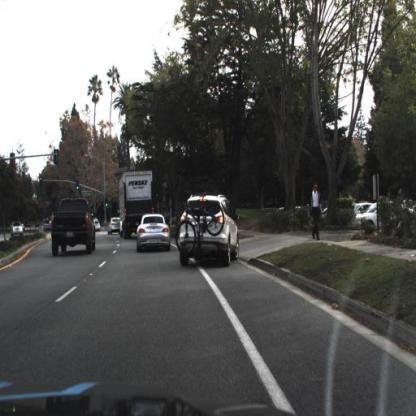car: (176, 193, 240, 266), (50, 197, 98, 256), (355, 199, 408, 236), (133, 210, 173, 258), (9, 218, 25, 237), (107, 217, 121, 236)
pedestrian: (308, 183, 324, 243), (309, 180, 324, 244)
trafficLight-Green: (104, 194, 111, 211), (75, 177, 83, 191), (75, 181, 81, 196), (104, 197, 110, 210)
trafficLight-RedLeft: (39, 176, 44, 191)
truck: (118, 169, 155, 239)
